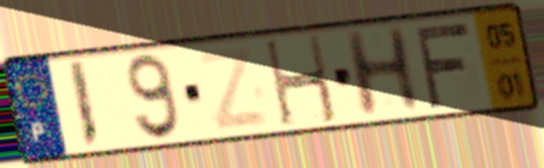9: (124, 51, 184, 144)
F: (410, 19, 474, 112)
H: (339, 23, 425, 122), (261, 32, 341, 130)
I: (65, 58, 103, 152)
Z: (193, 43, 273, 133)
